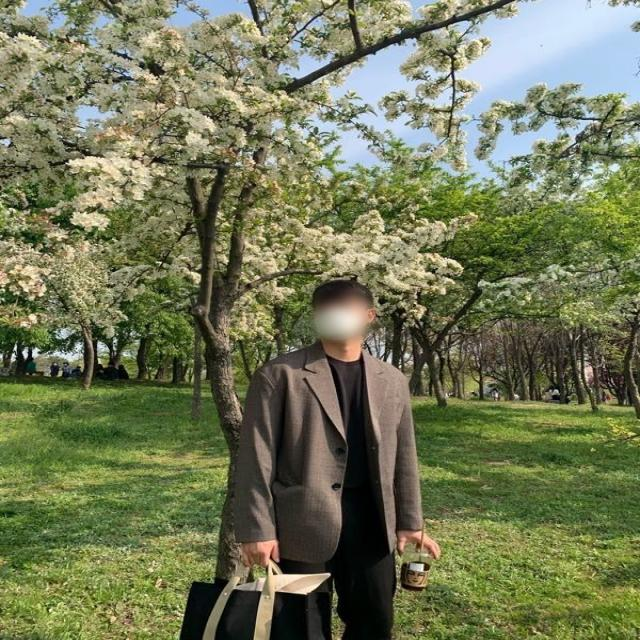blazer: (224, 343, 426, 563)
